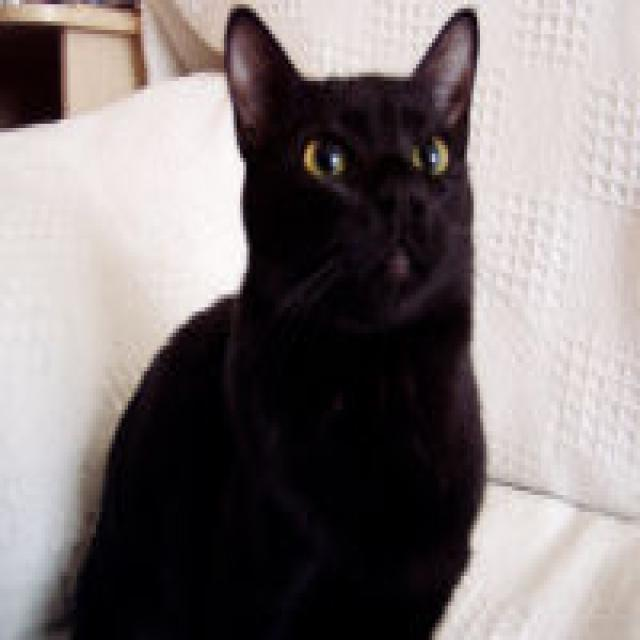Bombay: (220, 2, 500, 348)
